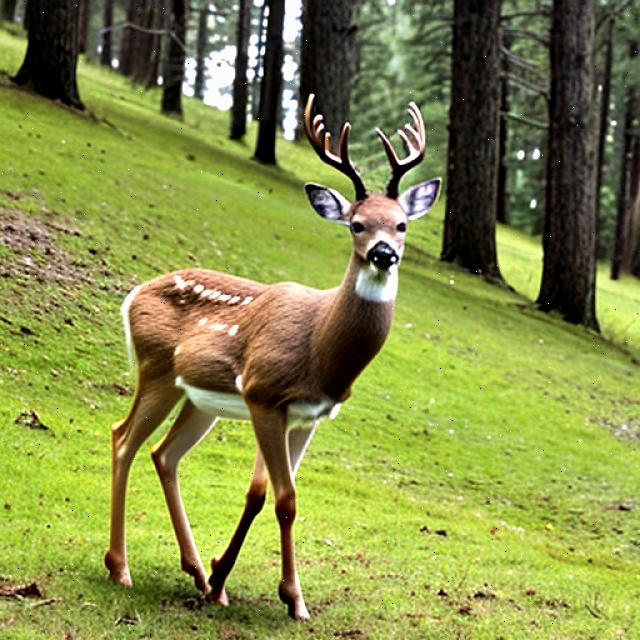deer: (81, 60, 481, 620)
